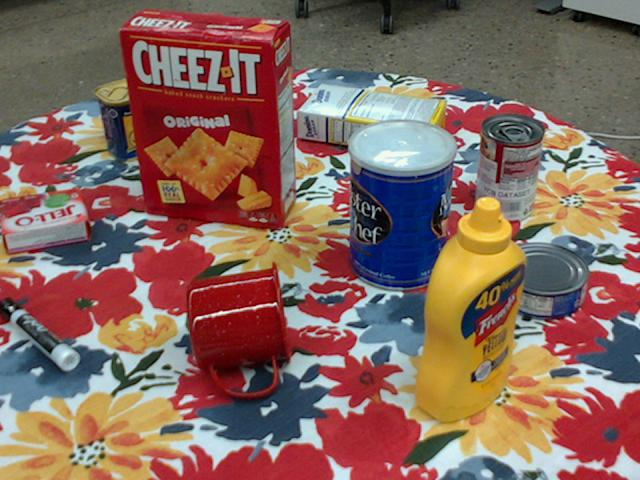cracker_box: (120, 9, 296, 224)
gelatin_box: (0, 187, 91, 254)
large_marker: (0, 296, 78, 370)
master_chef_can: (348, 120, 455, 292)
mug: (186, 262, 292, 398)
mustard_bottle: (415, 197, 524, 422)
potted_meat_can: (94, 69, 181, 160)
sugar_box: (295, 82, 446, 159)
tomato_soup_can: (474, 113, 543, 223)
tuna_fish_can: (496, 244, 587, 321)
